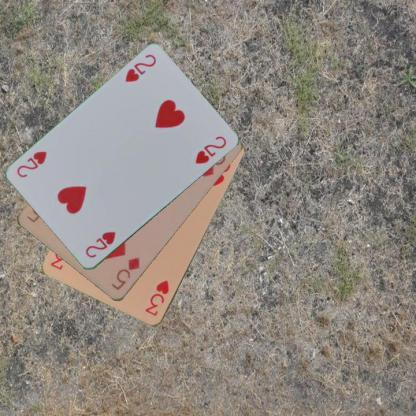2h: (122, 51, 158, 84), (82, 229, 118, 260)
3h: (143, 277, 170, 318)
5d: (109, 255, 141, 292)
